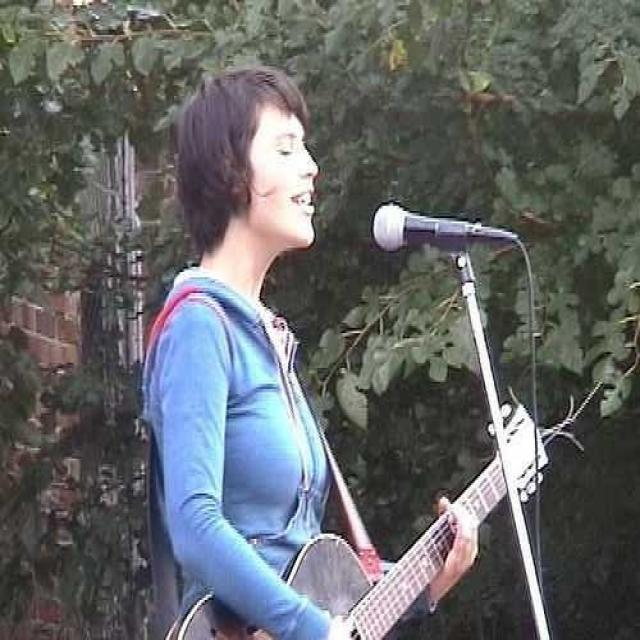microphone: (371, 201, 511, 256)
